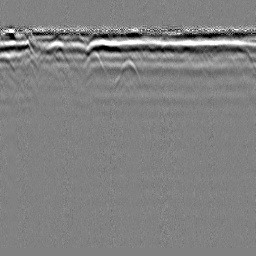cavity: (114, 57, 142, 88)
